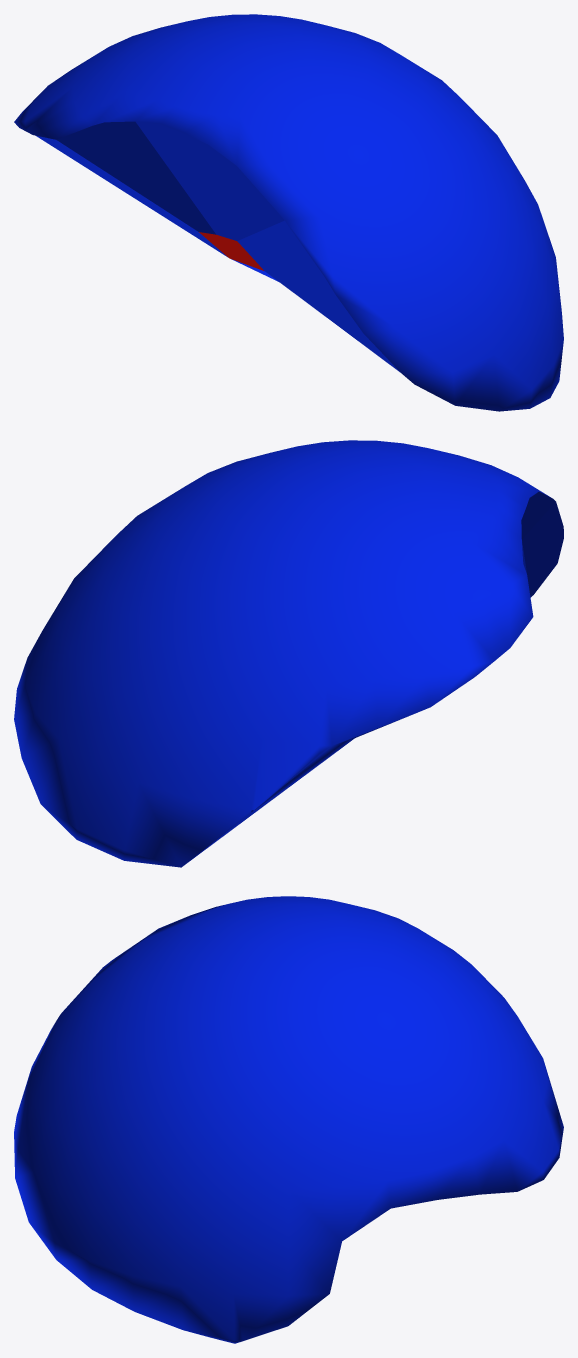
Rendered from Orbe_Square_F3.fbx.
3 views of the same model, one above another, from view 1: azimuth 30°, elevation 25°; view 2: azimuth 150°, elevation 25°; view 3: azimuth 270°, elevation 25° (orthographic). The views are drawn at different scales.
Visible parts, largest first — view 1: Orbe_Square_F3; view 2: Orbe_Square_F3; view 3: Orbe_Square_F3.
Boxes of the visible parts, <box> form: Orbe_Square_F3: <box>14,14,563,411</box>; Orbe_Square_F3: <box>14,440,563,867</box>; Orbe_Square_F3: <box>14,896,563,1343</box>.
Size of the model in its own units: 164 by 121 by 196.
